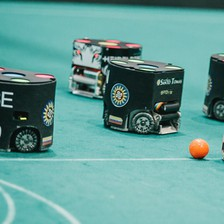ball: (187, 136, 210, 159)
robot: (101, 57, 185, 136), (1, 65, 56, 153), (68, 35, 108, 98), (200, 51, 224, 122)
